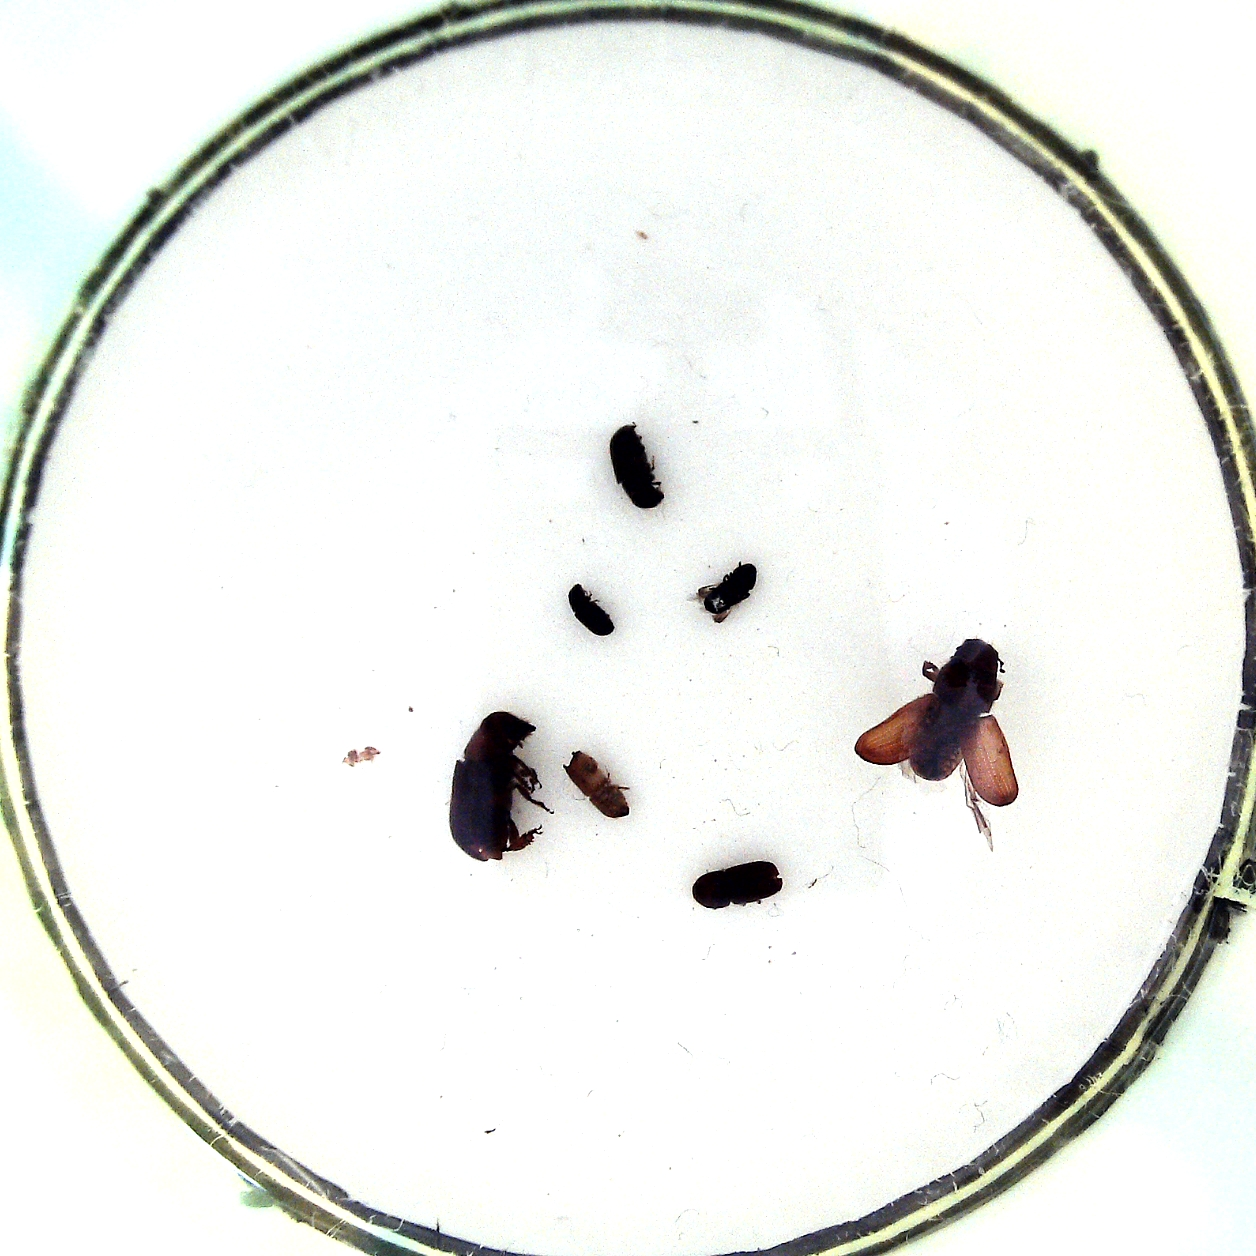Leconte: (848, 635, 1023, 840), (449, 709, 551, 873)
Linnaeus: (686, 857, 784, 916)
acuminatus: (562, 752, 633, 832)
armandi: (608, 419, 667, 516)
coleoptera: (682, 562, 759, 625), (566, 579, 621, 648)
